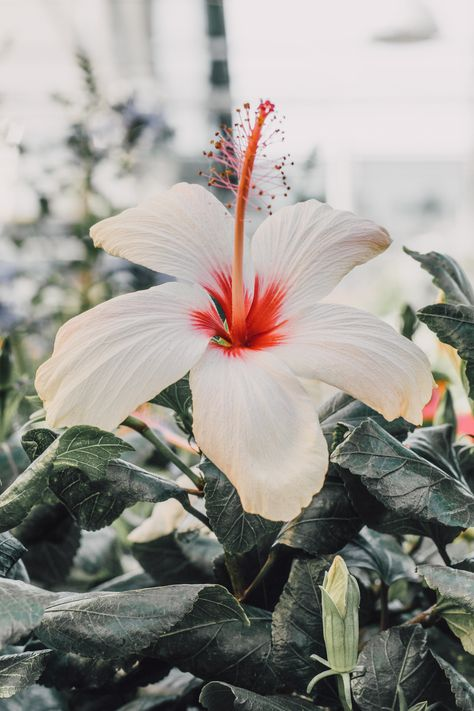Hibiscus: (28, 97, 439, 526), (302, 538, 386, 702)
